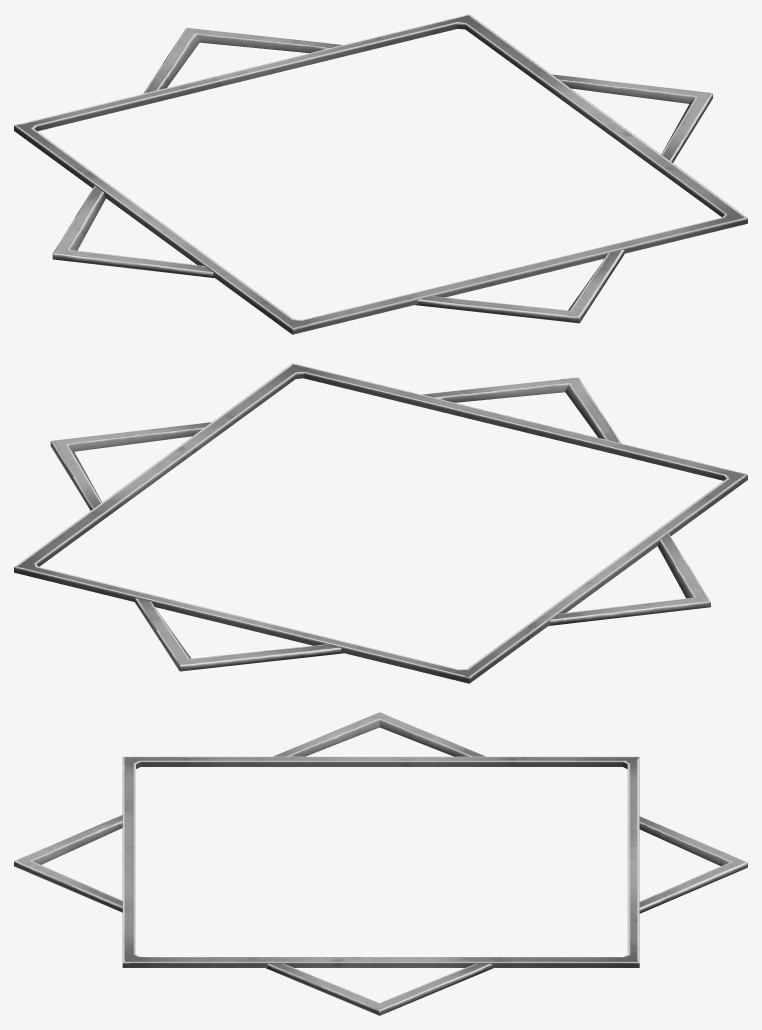
Rendered from Mid_Under.FBX.
The picture shows the model from 3 angles, top to bottom: view 1: azimuth 30°, elevation 25°; view 2: azimuth 150°, elevation 25°; view 3: azimuth 270°, elevation 25°; orthographic projection. The views are drawn at different scales.
Parts seen in each view (by area): view 1: Mid_Under; view 2: Mid_Under; view 3: Mid_Under.
Boxes of the visible parts, bbox=[...] form: Mid_Under: bbox=[14, 14, 747, 334]; Mid_Under: bbox=[14, 363, 747, 683]; Mid_Under: bbox=[14, 712, 747, 1015].
Size of the model in its own units: 1075 by 10.85 by 1117.
